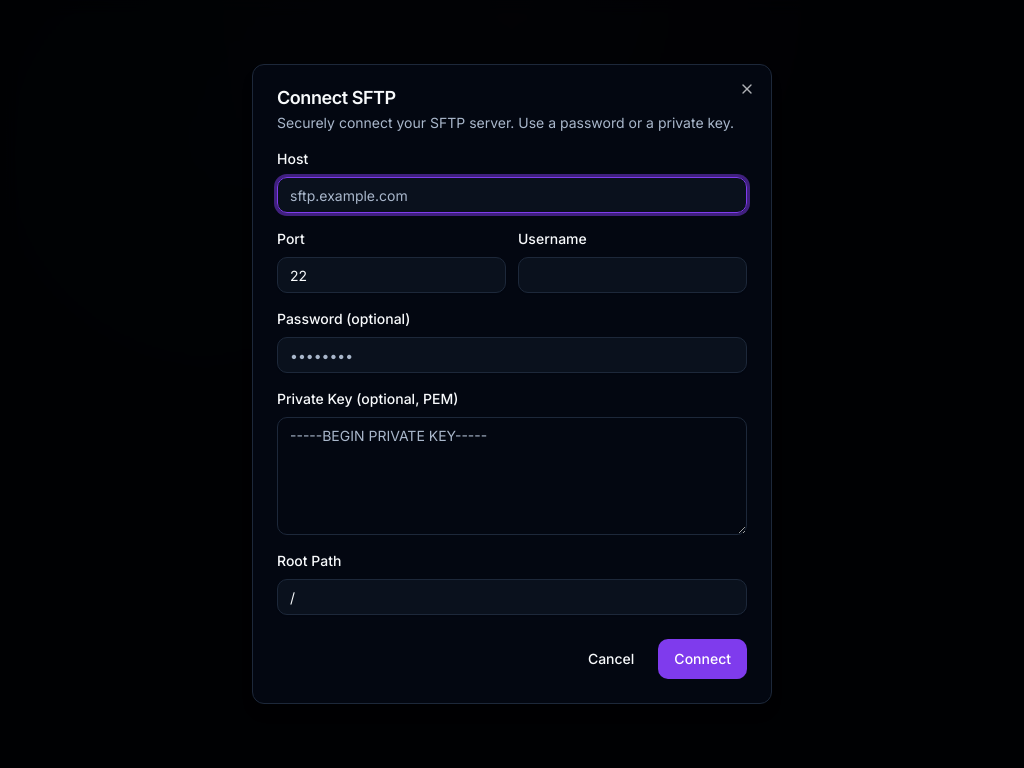
SftpConnectModal Component › Validation › should show error when username is empty
Fill host but not username
In the field with placeholder "sftp.example.com": (512, 195) 277,177 -> 747,213, type "my-server.com"
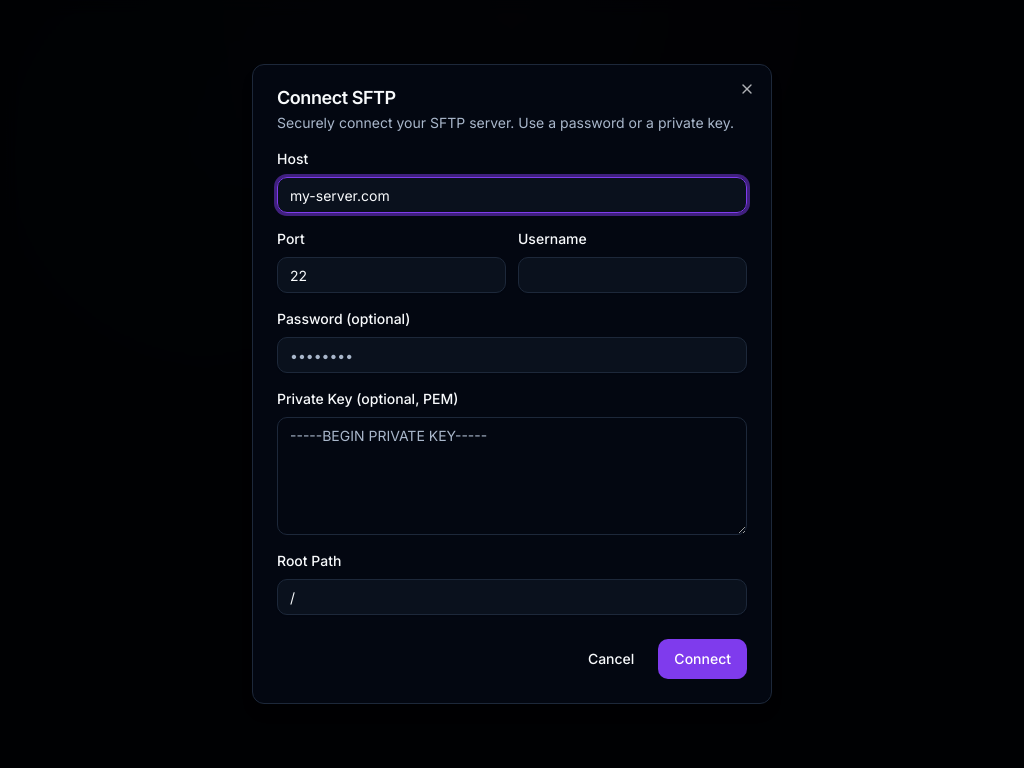
Fill password
In the password field with placeholder "••••••••": (512, 355) 277,337 -> 747,373, type "password"
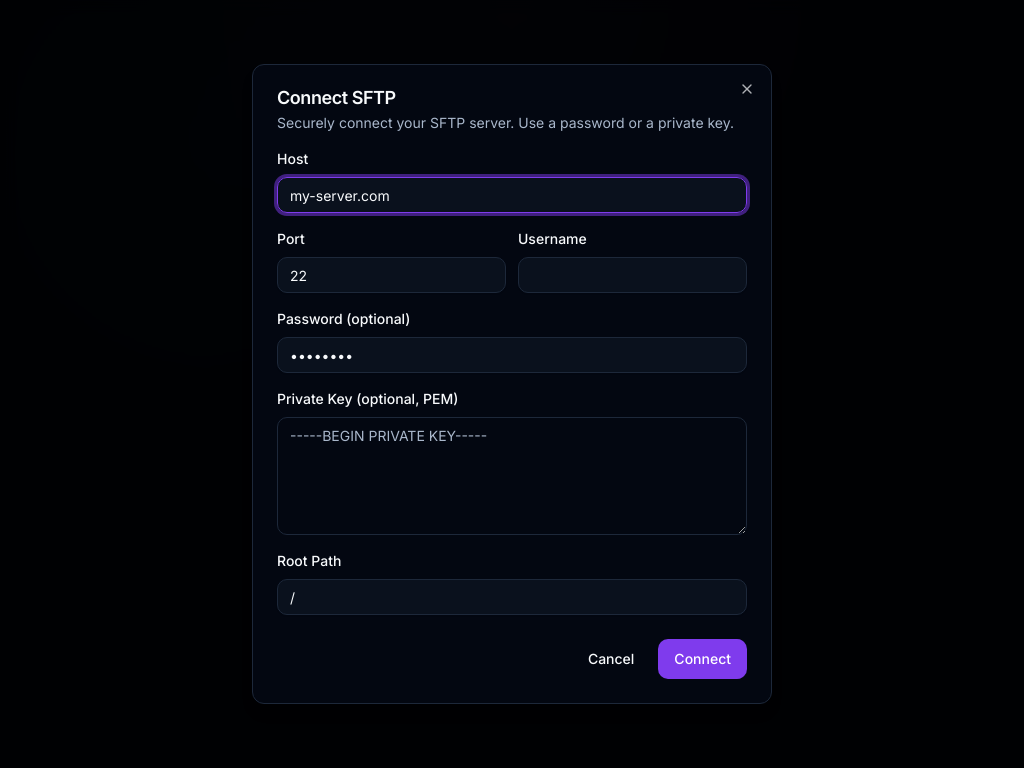
Click the button "Connect": (703, 659) 658,639 -> 747,679
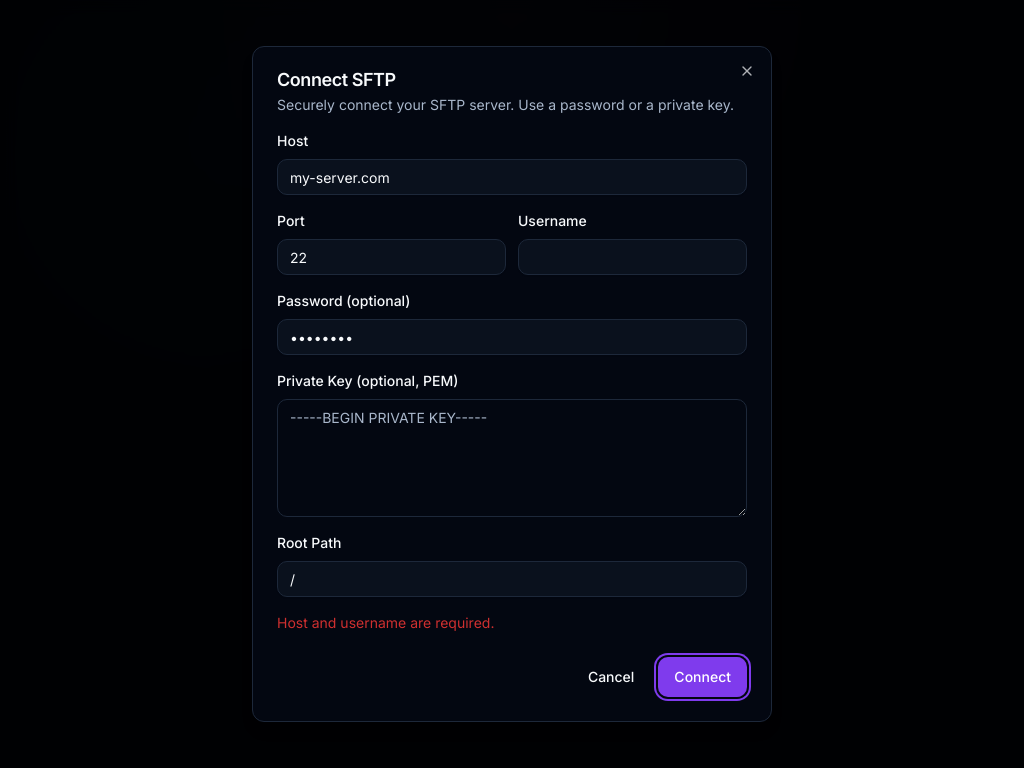
Expected: the text "Host and username are required." is shown, 277,614 -> 494,631
